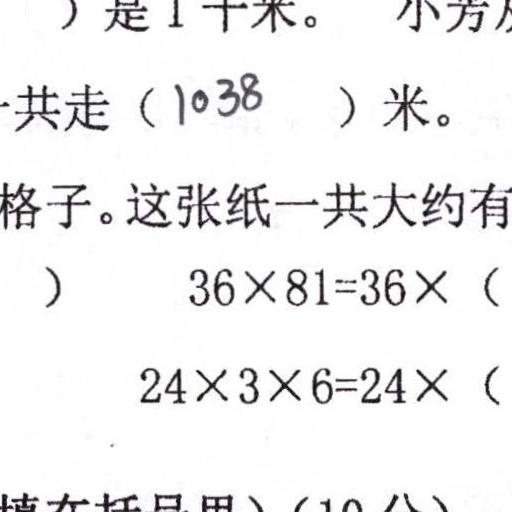ans: (171, 69, 267, 127)
